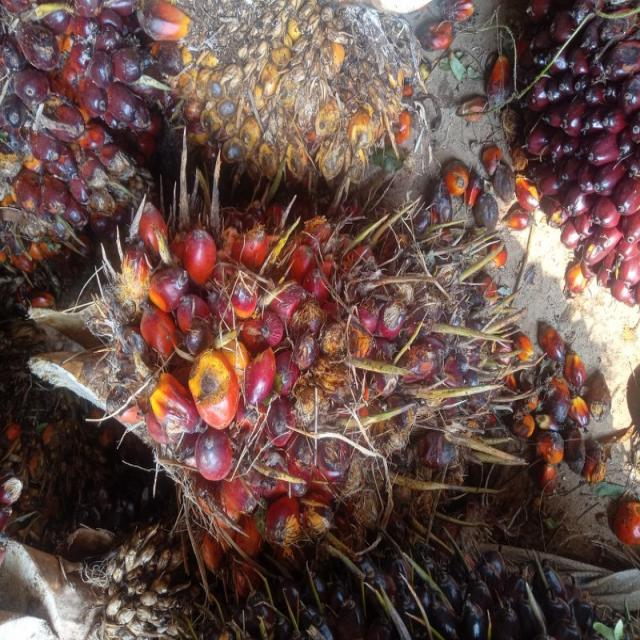fraksi 1: (69, 182, 524, 572)
